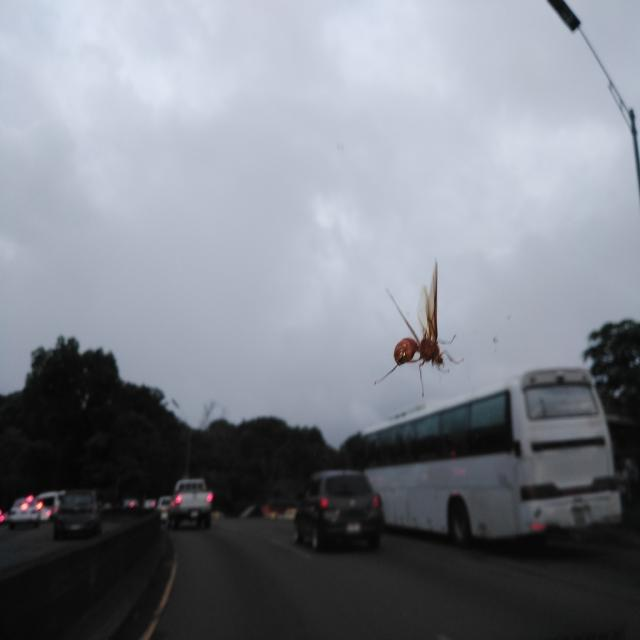Alive-Male-Alate: (374, 260, 465, 397)
